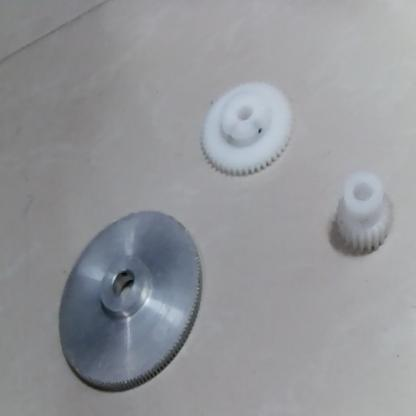FOD: (42, 206, 205, 390), (198, 77, 296, 183), (330, 168, 397, 259)
